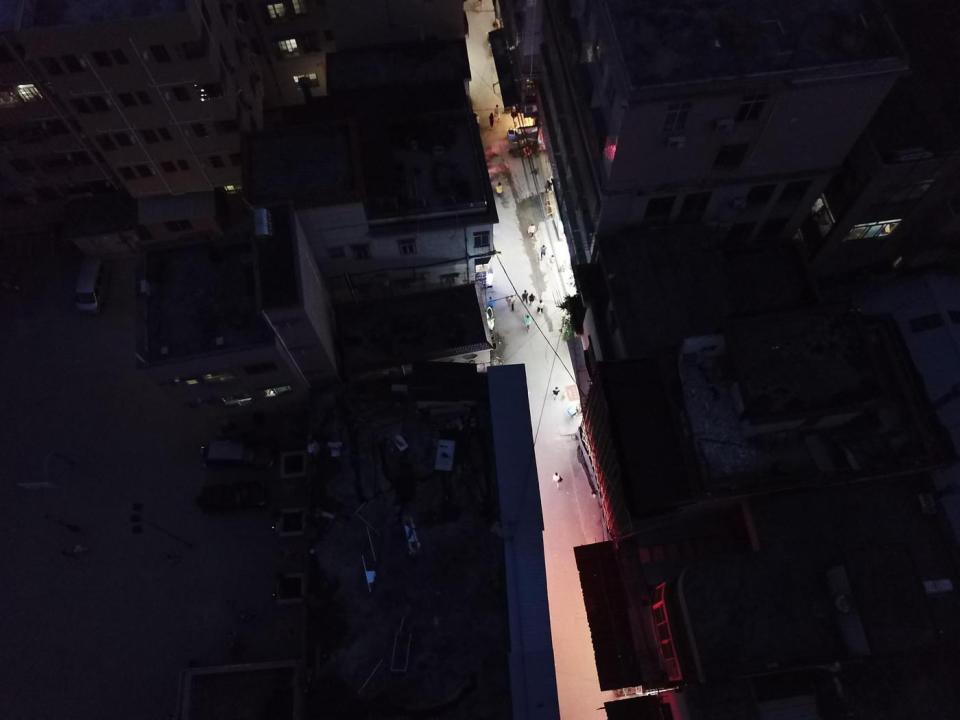car: (197, 482, 269, 513)
van: (205, 439, 276, 470), (74, 255, 110, 316)
